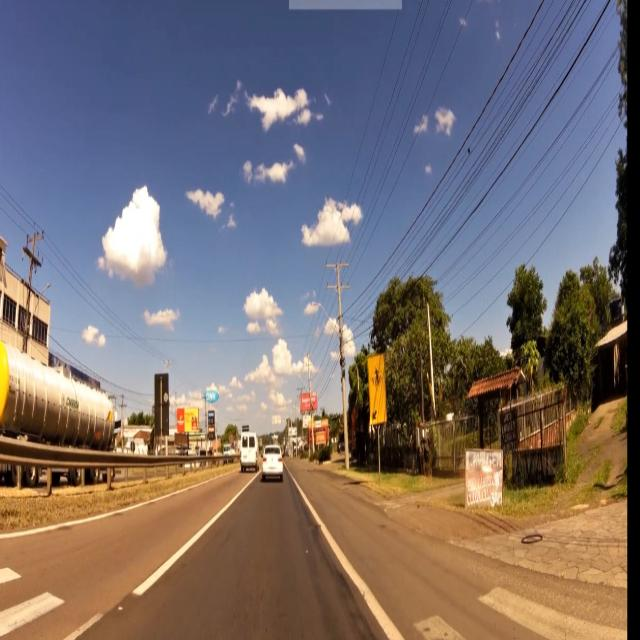A-32b: (370, 361, 384, 391)
